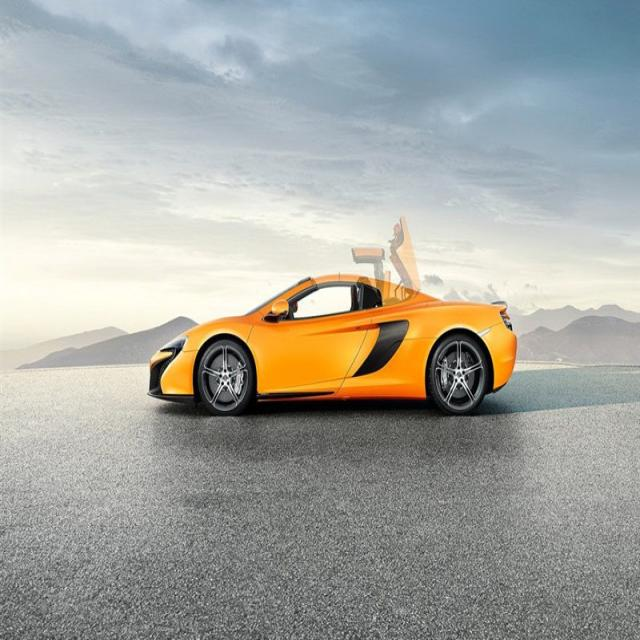back_left_side_light: (489, 299, 522, 346)
front_left_side_door: (242, 274, 374, 398)
front_left_side_light: (155, 327, 190, 362)
front_left_side_mirror: (263, 300, 291, 324)
wheel: (423, 324, 495, 420), (192, 333, 257, 420)
